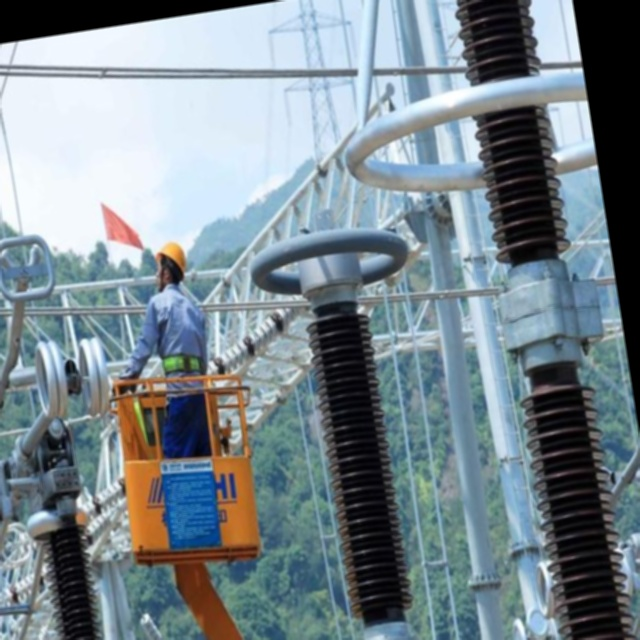Con_Casco: (151, 240, 188, 287)
Sin_Chaleco: (148, 282, 209, 364)
